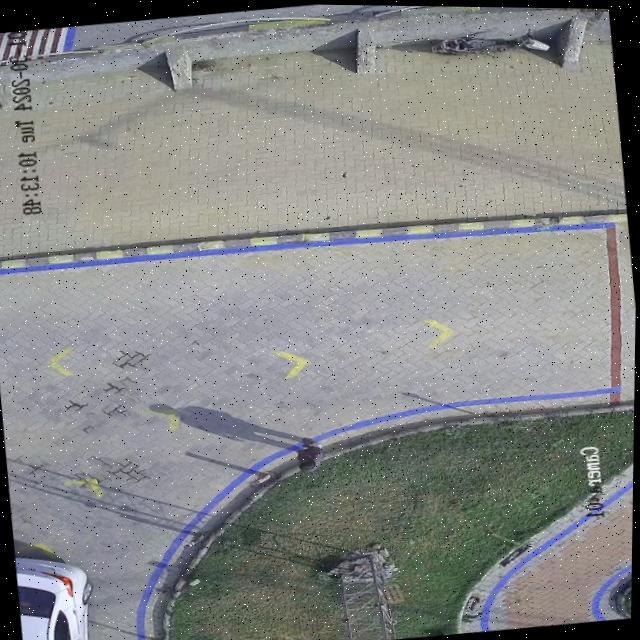car: (16, 553, 93, 640)
